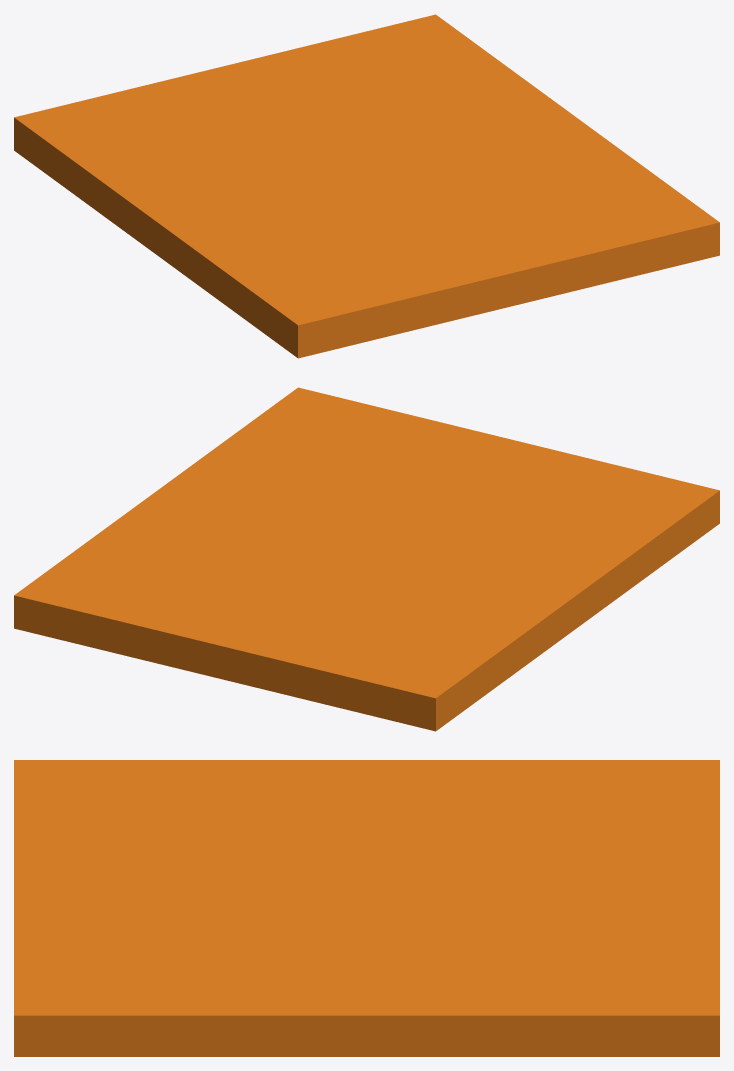
Rendered from tablet.glb.
The picture shows the model from 3 angles, top to bottom: view 1: azimuth 30°, elevation 25°; view 2: azimuth 150°, elevation 25°; view 3: azimuth 270°, elevation 25°; orthographic projection. The views are drawn at different scales.
Visible parts, largest first — view 1: Tablet; view 2: Tablet; view 3: Tablet.
Boxes of the visible parts, bbox=[...] form: Tablet: bbox=[14, 14, 719, 358]; Tablet: bbox=[14, 387, 719, 731]; Tablet: bbox=[14, 760, 719, 1056].
Bounding box in the file's own units: 0.24 × 0.0184 × 0.28.
